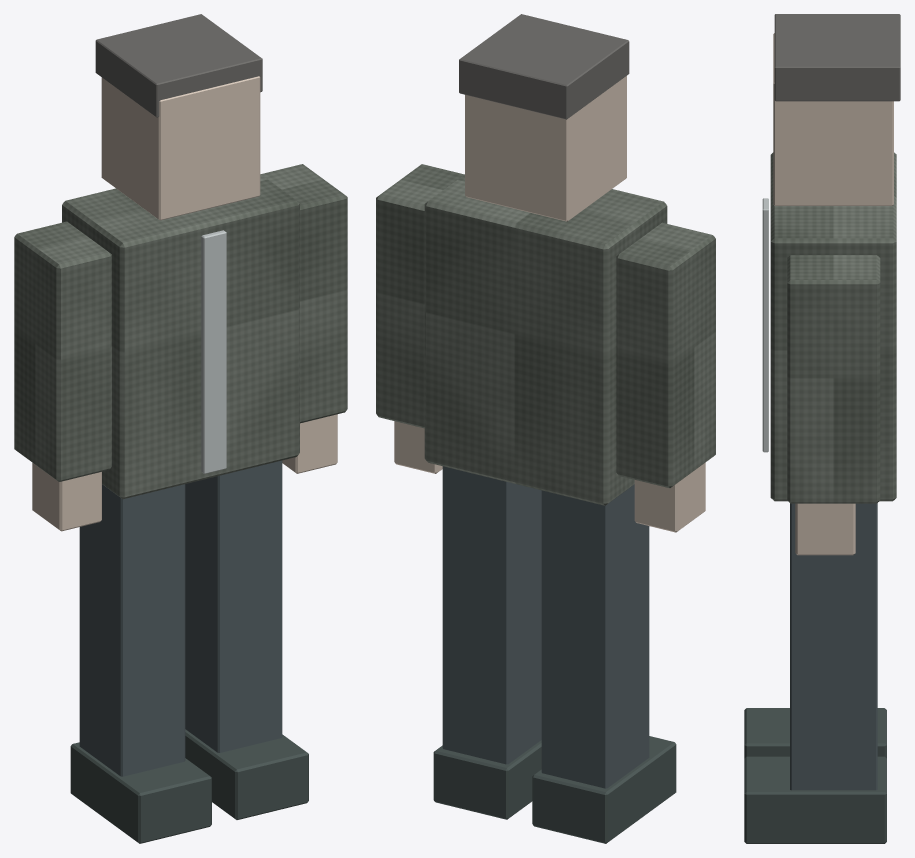
File: SessionFigure.glb
The picture shows the model from 3 angles, left to right: view 1: azimuth 30°, elevation 25°; view 2: azimuth 150°, elevation 25°; view 3: azimuth 270°, elevation 25°; orthographic projection. The views are drawn at different scales.
Parts seen in each view (by area): view 1: SessionFigure__FigureCoat__mesh, SessionFigure__BlackenedSteel__mesh, SessionFigure__SkinNeutral__mesh, SessionFigure__Rubber__mesh, SessionFigure__Hair__mesh, SessionFigure__BrushedHardware__mesh; view 2: SessionFigure__FigureCoat__mesh, SessionFigure__BlackenedSteel__mesh, SessionFigure__SkinNeutral__mesh, SessionFigure__Rubber__mesh, SessionFigure__Hair__mesh; view 3: SessionFigure__FigureCoat__mesh, SessionFigure__BlackenedSteel__mesh, SessionFigure__SkinNeutral__mesh, SessionFigure__Rubber__mesh, SessionFigure__Hair__mesh, SessionFigure__BrushedHardware__mesh.
Boxes of the visible parts, left/top/right/bottom form: SessionFigure__FigureCoat__mesh: left=14, top=164, right=347, bottom=499; SessionFigure__BlackenedSteel__mesh: left=79, top=460, right=282, bottom=776; SessionFigure__SkinNeutral__mesh: left=32, top=76, right=337, bottom=531; SessionFigure__Rubber__mesh: left=70, top=729, right=308, bottom=843; SessionFigure__Hair__mesh: left=95, top=14, right=262, bottom=117; SessionFigure__BrushedHardware__mesh: left=201, top=230, right=226, bottom=473; SessionFigure__FigureCoat__mesh: left=376, top=164, right=715, bottom=505; SessionFigure__BlackenedSteel__mesh: left=442, top=466, right=649, bottom=788; SessionFigure__SkinNeutral__mesh: left=394, top=76, right=705, bottom=532; SessionFigure__Rubber__mesh: left=433, top=736, right=676, bottom=843; SessionFigure__Hair__mesh: left=459, top=14, right=629, bottom=119; SessionFigure__FigureCoat__mesh: left=770, top=152, right=896, bottom=503; SessionFigure__BlackenedSteel__mesh: left=790, top=503, right=877, bottom=790; SessionFigure__SkinNeutral__mesh: left=773, top=33, right=893, bottom=555; SessionFigure__Rubber__mesh: left=744, top=708, right=886, bottom=843; SessionFigure__Hair__mesh: left=774, top=14, right=900, bottom=101; SessionFigure__BrushedHardware__mesh: left=762, top=198, right=768, bottom=452.
Size of the model in its own units: 0.63 by 1.53 by 0.285.
6 materials, 1 textured.
